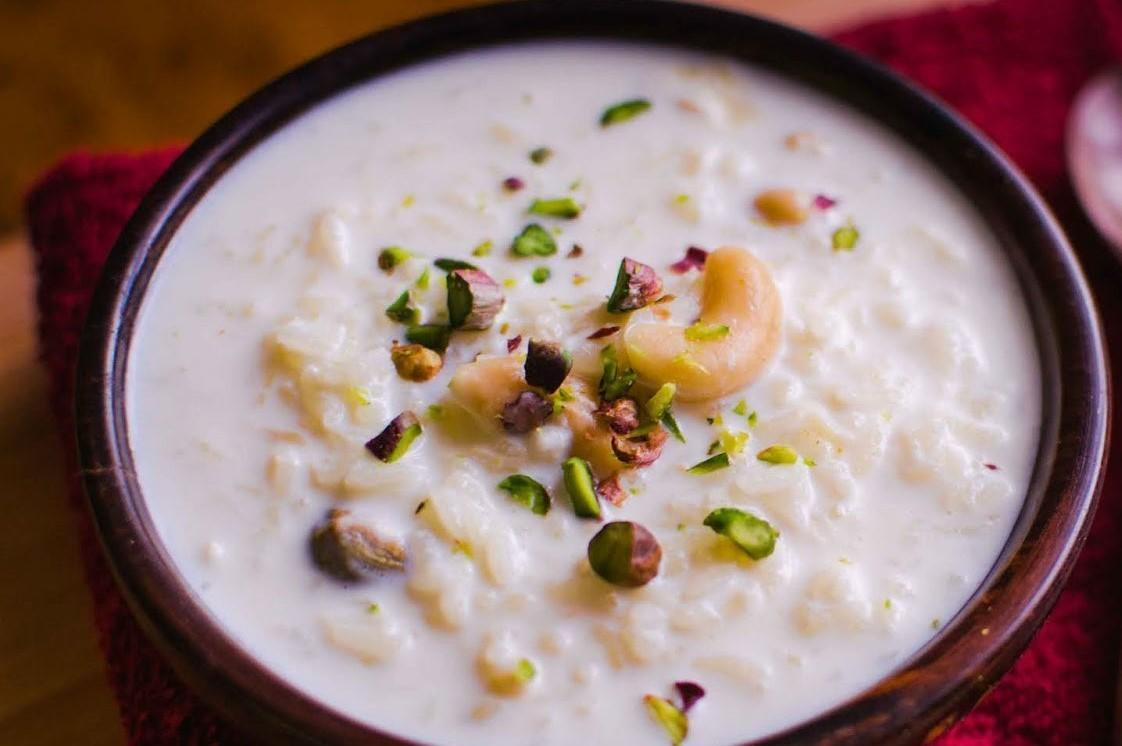Kheer: (127, 37, 1044, 746)
